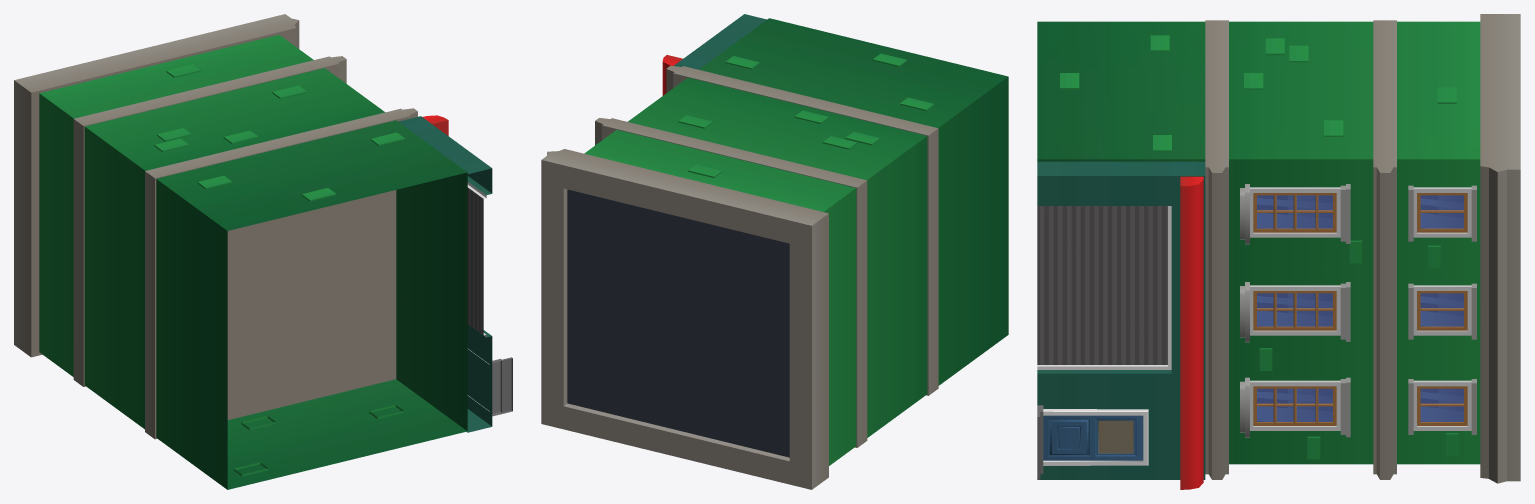
File: Building_19_2_C.fbx
3 renders of one model, left to right at view 1: azimuth 30°, elevation 25°; view 2: azimuth 150°, elevation 25°; view 3: azimuth 270°, elevation 25°, orthographic. The views are drawn at different scales.
Parts seen in each view (by area): view 1: Building_19_2_C; view 2: Building_19_2_C; view 3: Building_19_2_C.
Part boxes in pixels (box(x1,y1,x2,y2)): Building_19_2_C: box(14, 14, 512, 489); Building_19_2_C: box(541, 14, 1008, 489); Building_19_2_C: box(1037, 14, 1520, 489).
Bounding box in the file's own units: 774 × 667 × 938.
